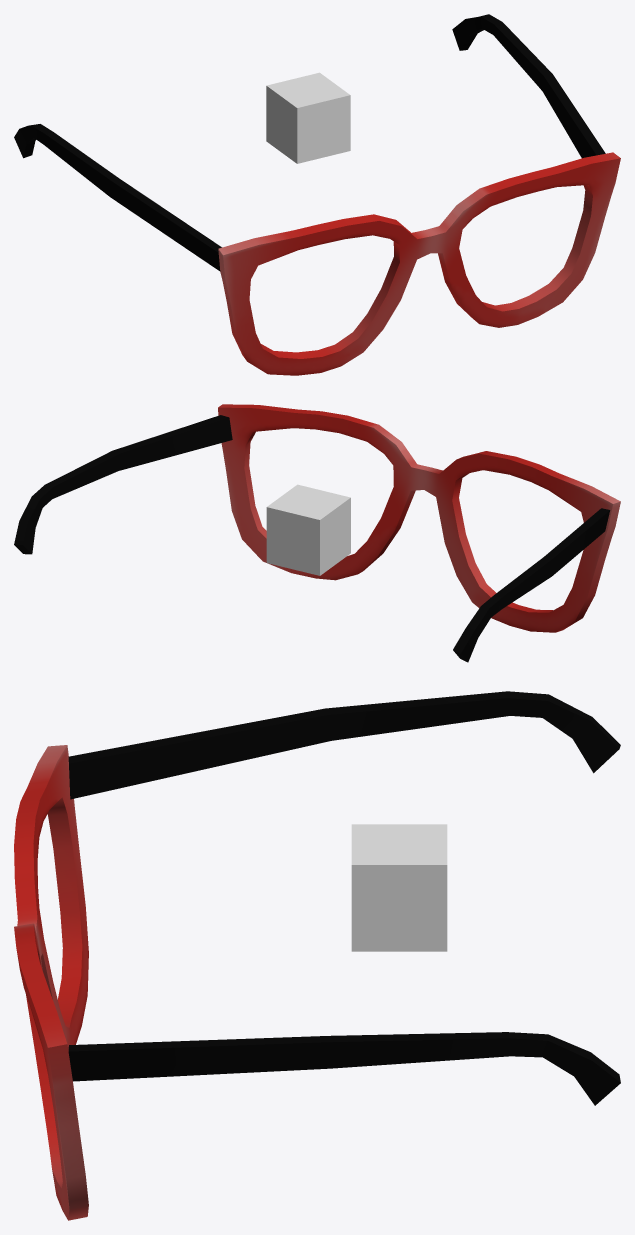
Rendered from girl_glasses3.FBX.
The picture shows the model from 3 angles, top to bottom: view 1: azimuth 30°, elevation 25°; view 2: azimuth 150°, elevation 25°; view 3: azimuth 270°, elevation 25°; orthographic projection. The views are drawn at different scales.
Parts seen in each view (by area): view 1: girl_glasses016, faceSpawn; view 2: girl_glasses016, faceSpawn; view 3: girl_glasses016, faceSpawn.
Boxes of the visible parts, x1,y1,x2,y2 form: girl_glasses016: (14, 14, 620, 375); faceSpawn: (266, 72, 350, 163); girl_glasses016: (14, 404, 620, 662); faceSpawn: (266, 484, 350, 575); girl_glasses016: (14, 691, 620, 1220); faceSpawn: (351, 824, 447, 951).
Size of the model in its own units: 42.97 by 15.93 by 31.73.
